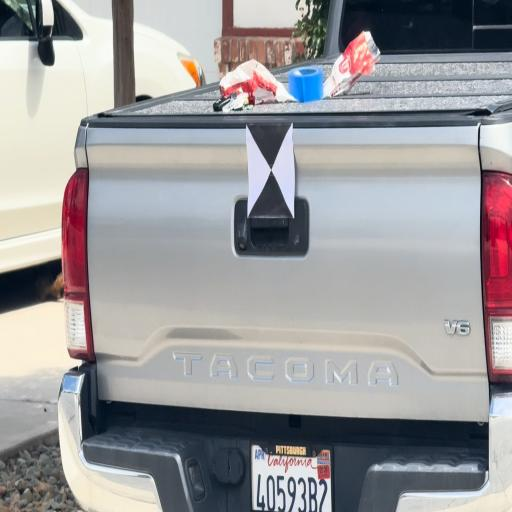target: (247, 124, 294, 218)
